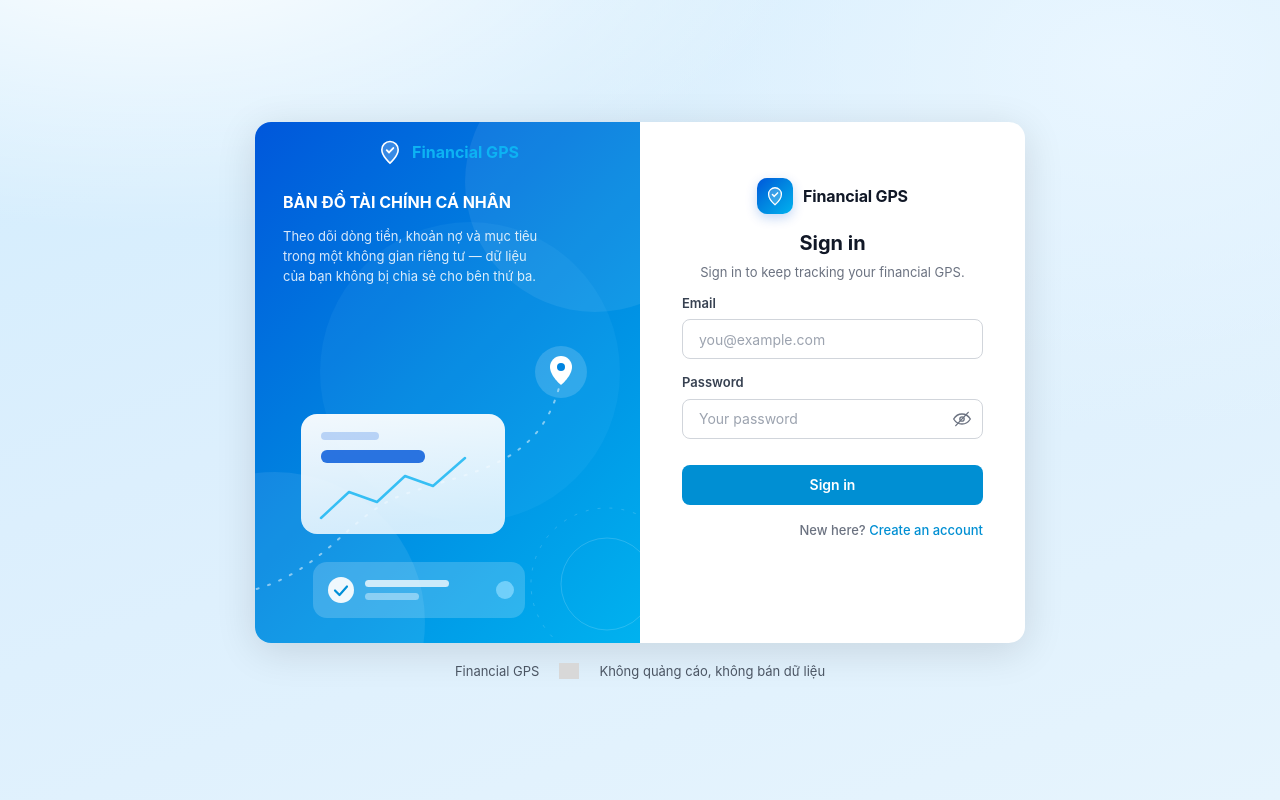
Scenario: LoginView (real 007 login) › shows INVALID_CREDENTIALS instead of routing on failure
This screenshot has width=1280, height=800.
Type "a@example.com" into the field with id "email" at coordinates (832, 339), box [682,319,983,359]
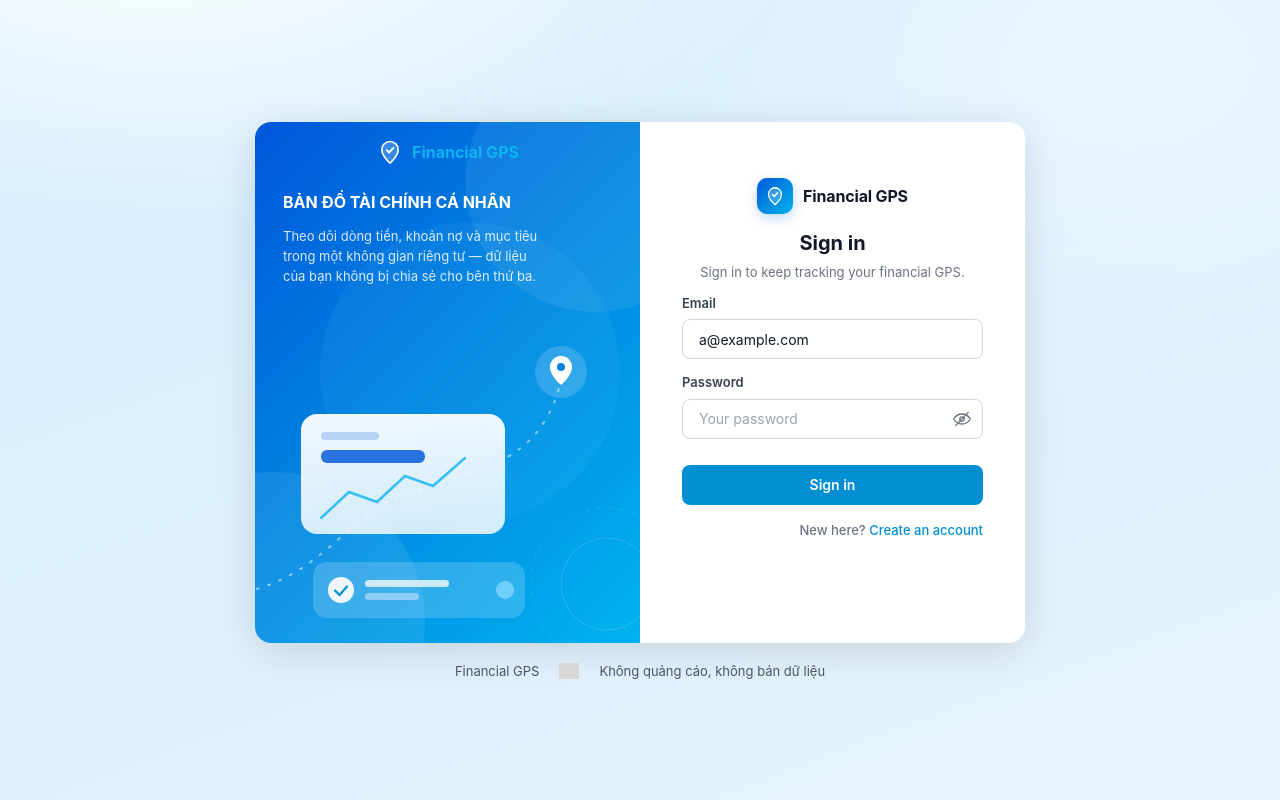
Type "wrong password 99" into the password field labelled "Password" at coordinates (832, 418), box [682,398,983,438]
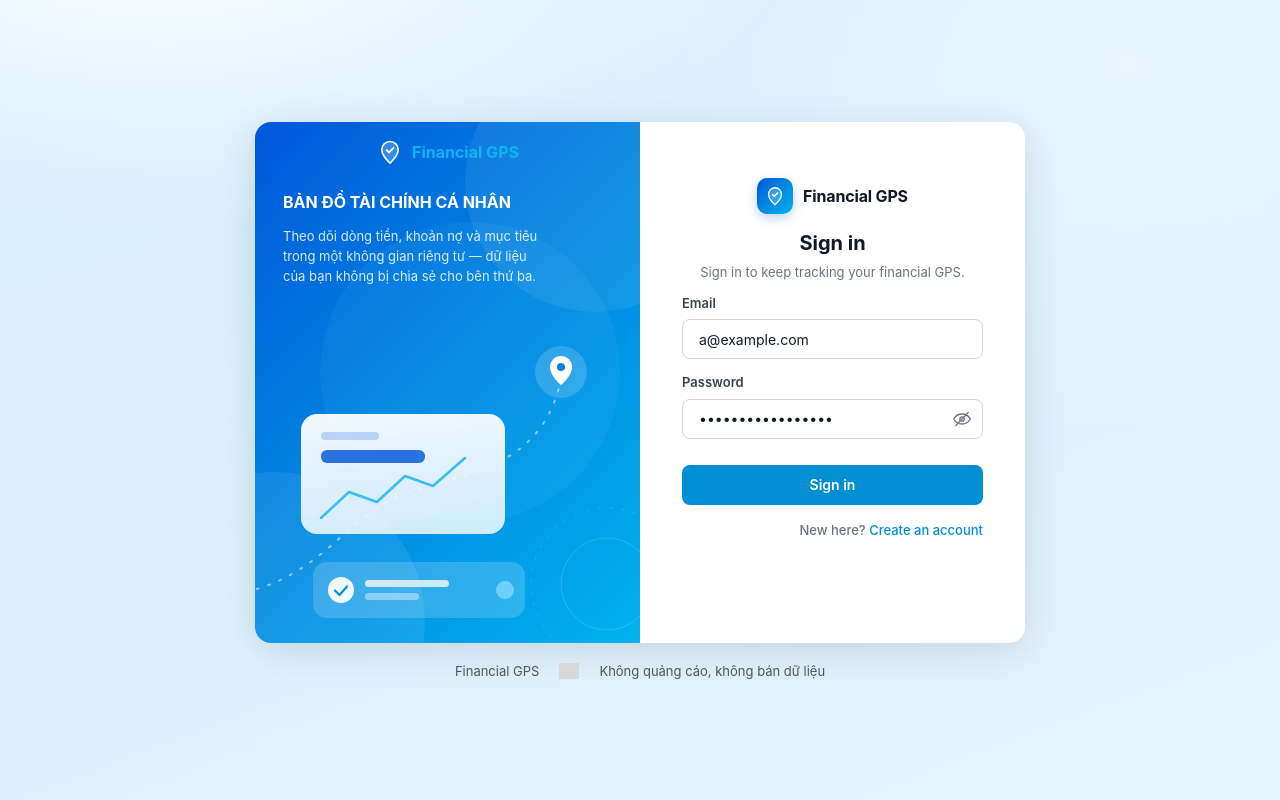
Click the button "Sign in" at coordinates (832, 484), box [682,464,983,504]
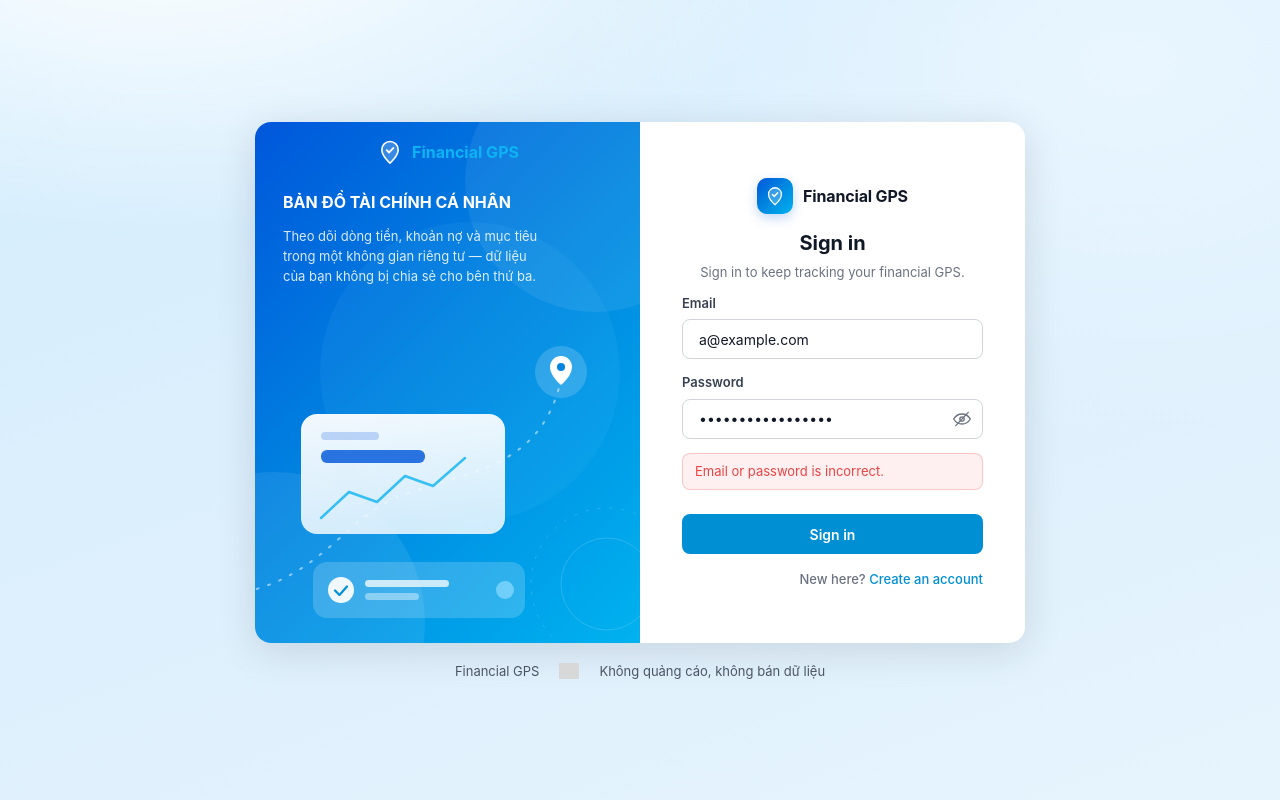
expect the text "Email or password is incorrect." is shown: met, box [682,452,983,490]
